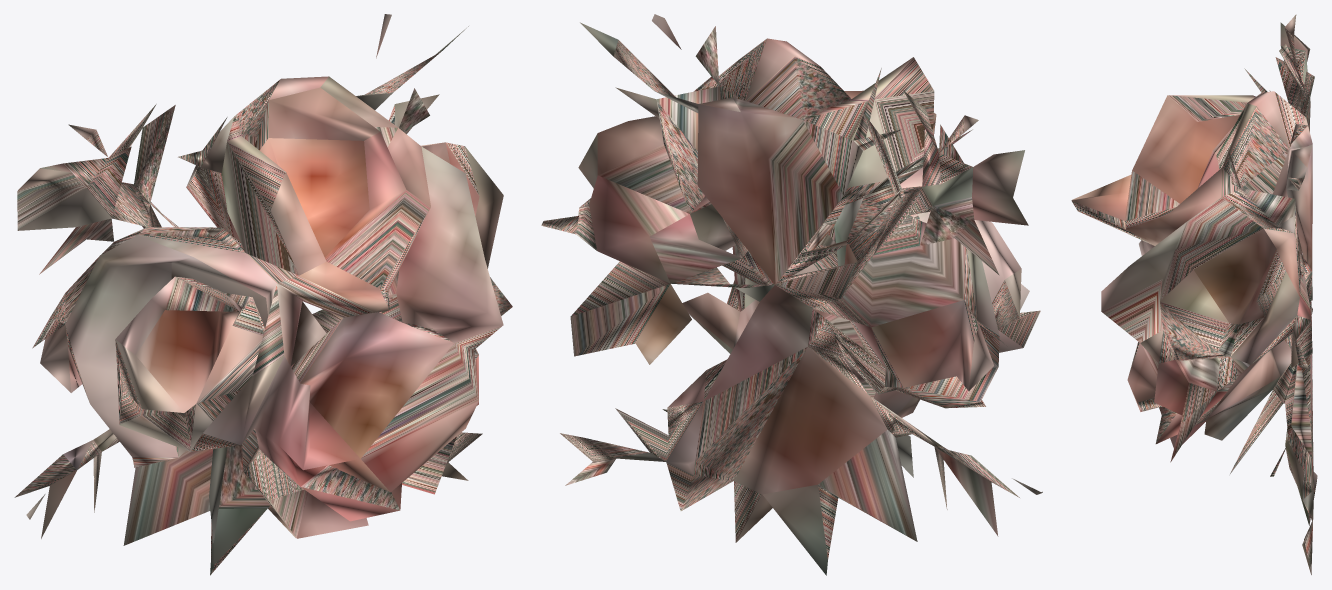
3 renders of one model, left to right at view 1: azimuth 30°, elevation 25°; view 2: azimuth 150°, elevation 25°; view 3: azimuth 270°, elevation 25°, orthographic. The views are drawn at different scales.
Parts seen in each view (by area): view 1: Rose-Bouquet-9-08; view 2: Rose-Bouquet-9-08; view 3: Rose-Bouquet-9-08.
Part boxes in pixels (left/top/right/bottom): Rose-Bouquet-9-08: left=14, top=14, right=512, bottom=575; Rose-Bouquet-9-08: left=541, top=14, right=1042, bottom=575; Rose-Bouquet-9-08: left=1071, top=14, right=1317, bottom=574.
Bounding box in the file's own units: 0.2636 × 0.2695 × 0.1361.
Materials: 1 (1 with a texture image).
